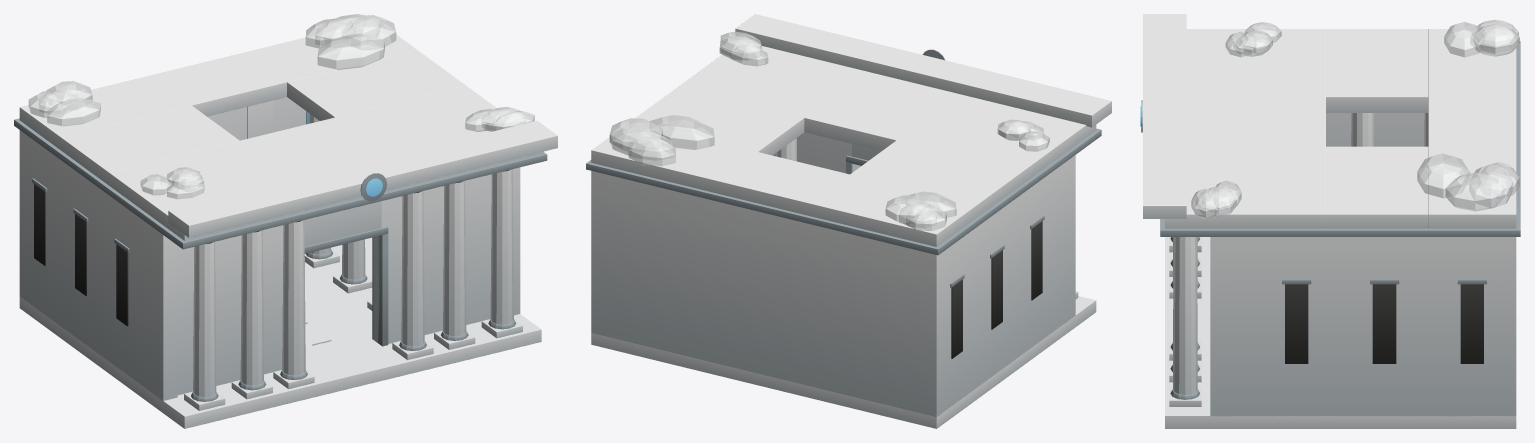
File: cloud_hall.glb
3 renders of one model, left to right at view 1: azimuth 30°, elevation 25°; view 2: azimuth 150°, elevation 25°; view 3: azimuth 270°, elevation 25°, orthographic. The views are drawn at different scales.
Parts seen in each view (by area): view 1: cloud_hall; view 2: cloud_hall; view 3: cloud_hall.
Boxes of the visible parts, x1,y1,x2,y2 form: cloud_hall: (14,14,557,428); cloud_hall: (586,14,1111,428); cloud_hall: (1140,14,1520,428).
Bounding box in the file's own units: 31.52 × 17.86 × 25.98.
Materials: 3 (3 with a texture image).
